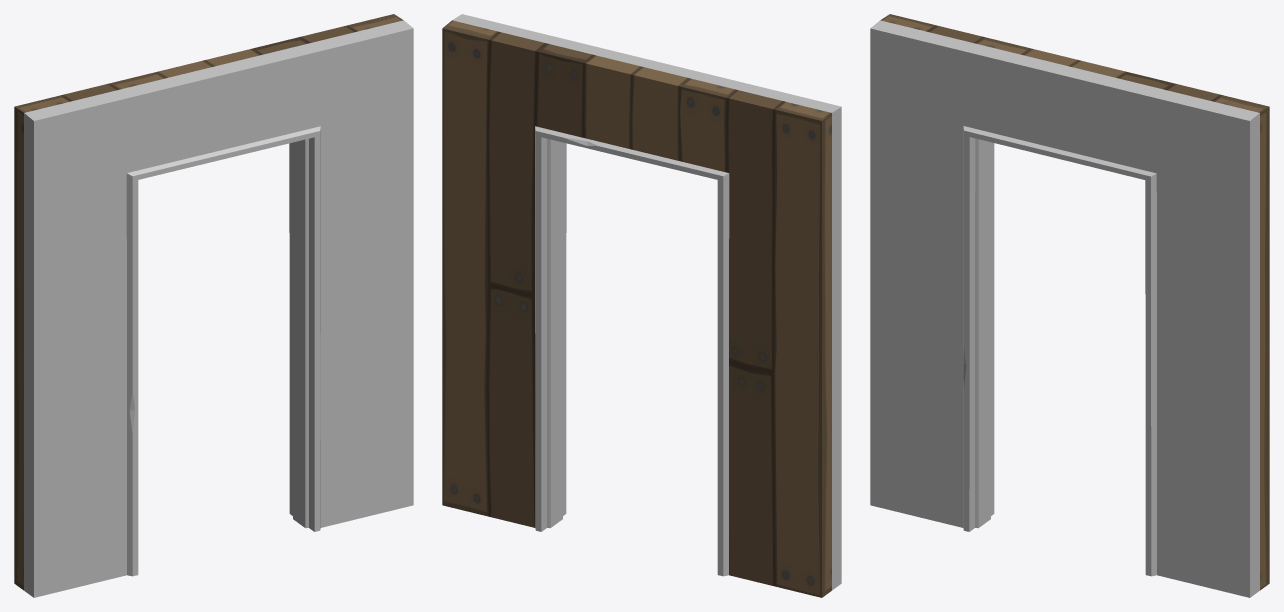
Rendered from SM_Bld_Deco_Wall_Door_Large_01.fbx.
The picture shows the model from 3 angles, left to right: view 1: azimuth 30°, elevation 25°; view 2: azimuth 150°, elevation 25°; view 3: azimuth 330°, elevation 25°; orthographic projection.
Parts seen in each view (by area): view 1: SM_Bld_Deco_Wall_Door_Large_01; view 2: SM_Bld_Deco_Wall_Door_Large_01; view 3: SM_Bld_Deco_Wall_Door_Large_01.
Boxes of the visible parts, <box> form: SM_Bld_Deco_Wall_Door_Large_01: <box>14,14,413,597</box>; SM_Bld_Deco_Wall_Door_Large_01: <box>442,14,841,597</box>; SM_Bld_Deco_Wall_Door_Large_01: <box>870,14,1269,597</box>.
Bounding box in the file's own units: 250 × 301 × 28.8.
